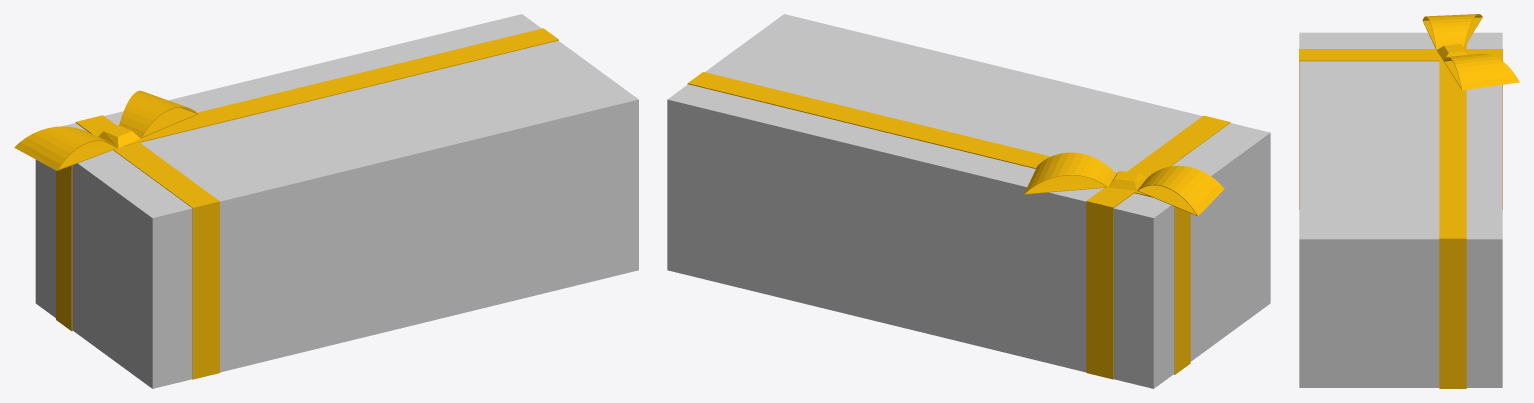
Rendered from Prop_Christmas_Present_White_09.FBX.
The picture shows the model from 3 angles, left to right: view 1: azimuth 30°, elevation 25°; view 2: azimuth 150°, elevation 25°; view 3: azimuth 270°, elevation 25°; orthographic projection. The views are drawn at different scales.
Visible parts, largest first — view 1: Prop_Christmas_Present_White_09; view 2: Prop_Christmas_Present_White_09; view 3: Prop_Christmas_Present_White_09.
Boxes of the visible parts, box(x1,y1,x2,y2) form: Prop_Christmas_Present_White_09: box(14, 14, 638, 388); Prop_Christmas_Present_White_09: box(667, 14, 1270, 388); Prop_Christmas_Present_White_09: box(1299, 14, 1519, 388).
Bounding box in the file's own units: 852 × 298 × 360.
